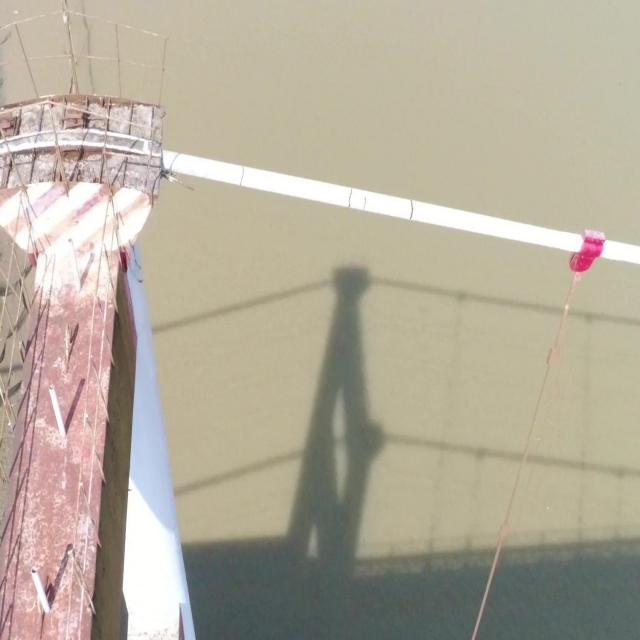crack: (348, 189, 353, 207), (240, 167, 244, 186), (410, 200, 414, 219), (362, 197, 367, 210)
